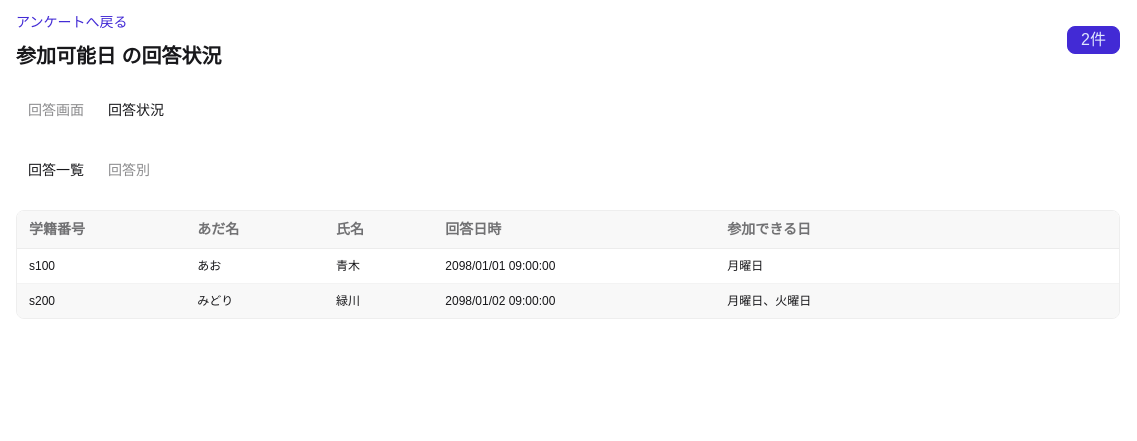
Test: アンケート回答状況 › 質問と回答を選ぶと該当する回答者だけ表示する
Click the tab "回答別" at (129, 170), box [96,150,162,190]
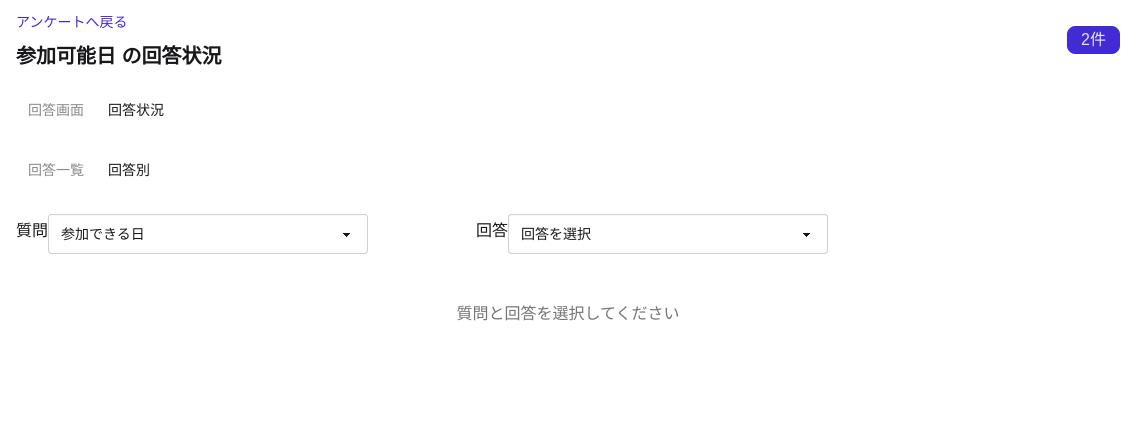
Select "参加できる日" in the dropdown labelled "質問" at (208, 234), box [48,214,368,254]
Select "月曜日" in the dropdown labelled "回答" at (668, 234), box [508,214,828,254]
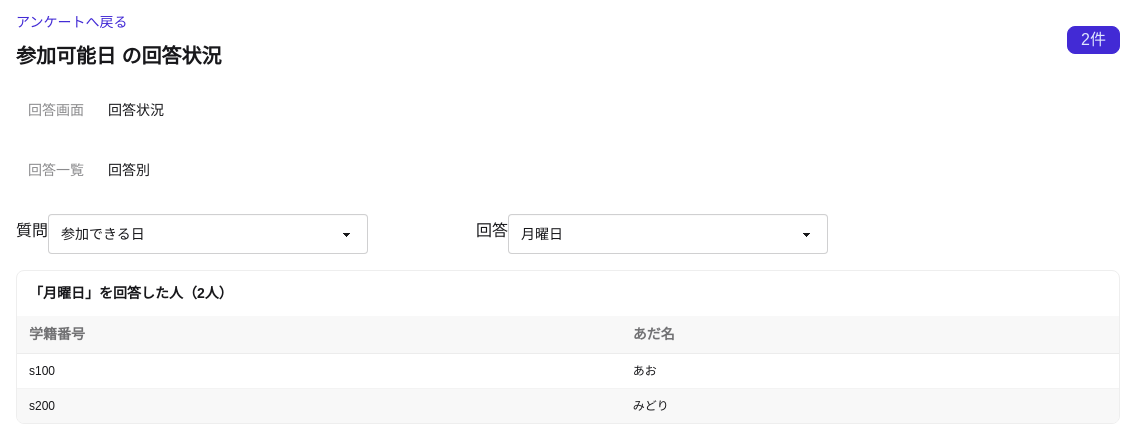
expect the number of rows is 3: met, box [17,316,1119,354]; [17,354,1119,389]; [17,389,1119,423]
expect the cell "s100" is shown: met, box [17,354,621,389]
expect the cell "s200" is shown: met, box [17,389,621,423]
